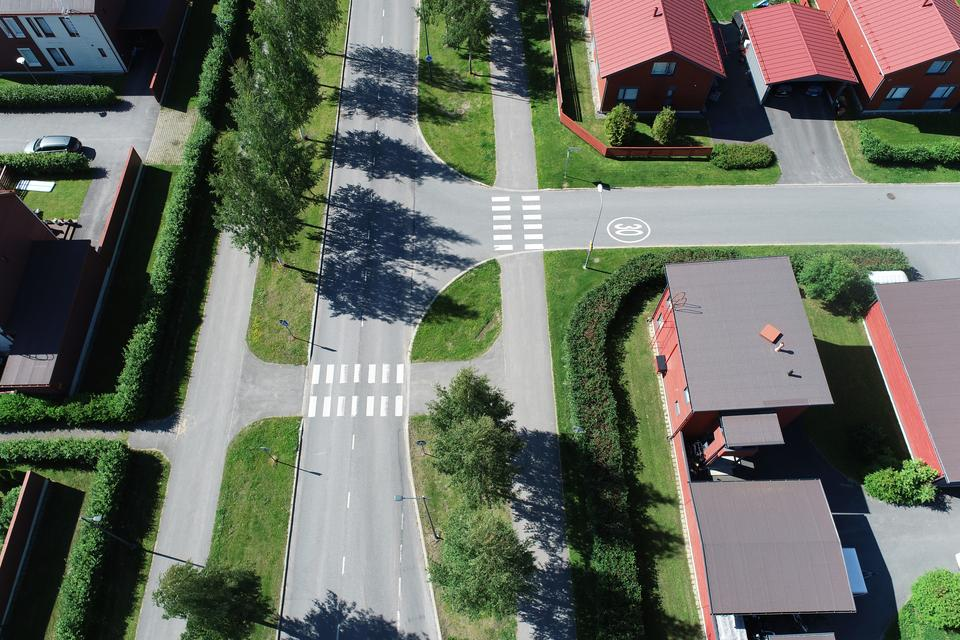intersection: (169, 335, 570, 451), (289, 141, 563, 297)
